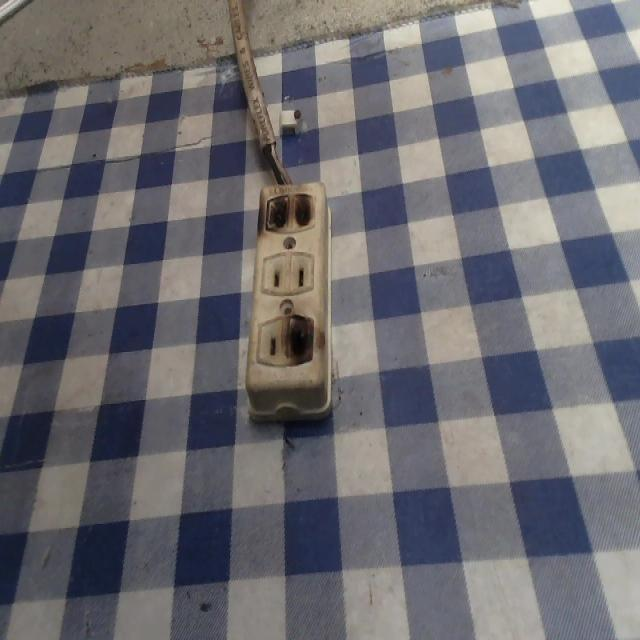-: (253, 189, 317, 240), (278, 312, 328, 371)
